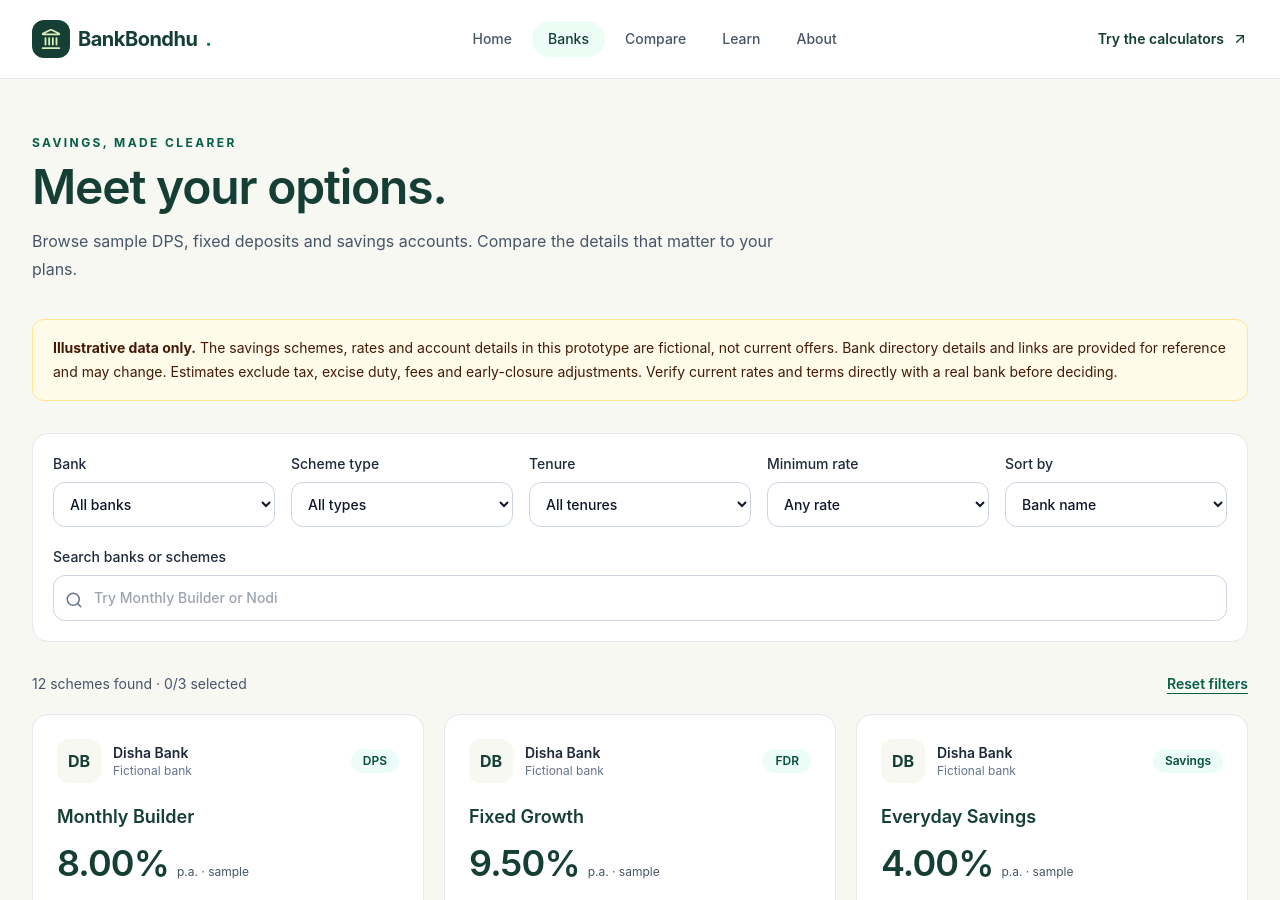
Test: shows an empty filter state and resets it
This screenshot has width=1280, height=900.
Type "nonexistent bank" into the search field labelled "Search banks or schemes".
click(640, 598); type("nonexistent bank")  # box 53,575 -> 1227,621
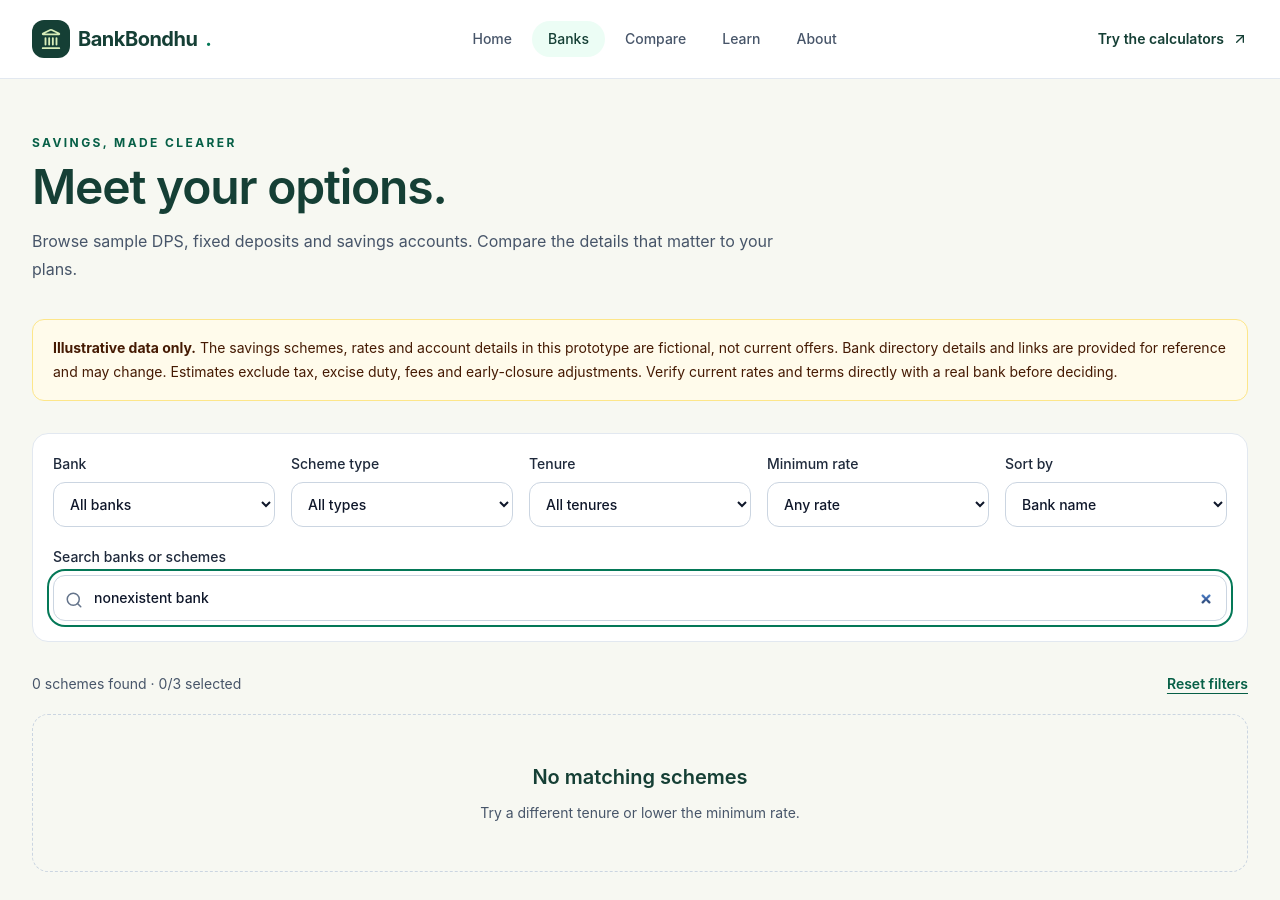
Result: the heading "No matching schemes" is shown at 532,765 -> 748,789
Click the button "Reset filters".
click(1207, 684)  # box 1167,674 -> 1248,694
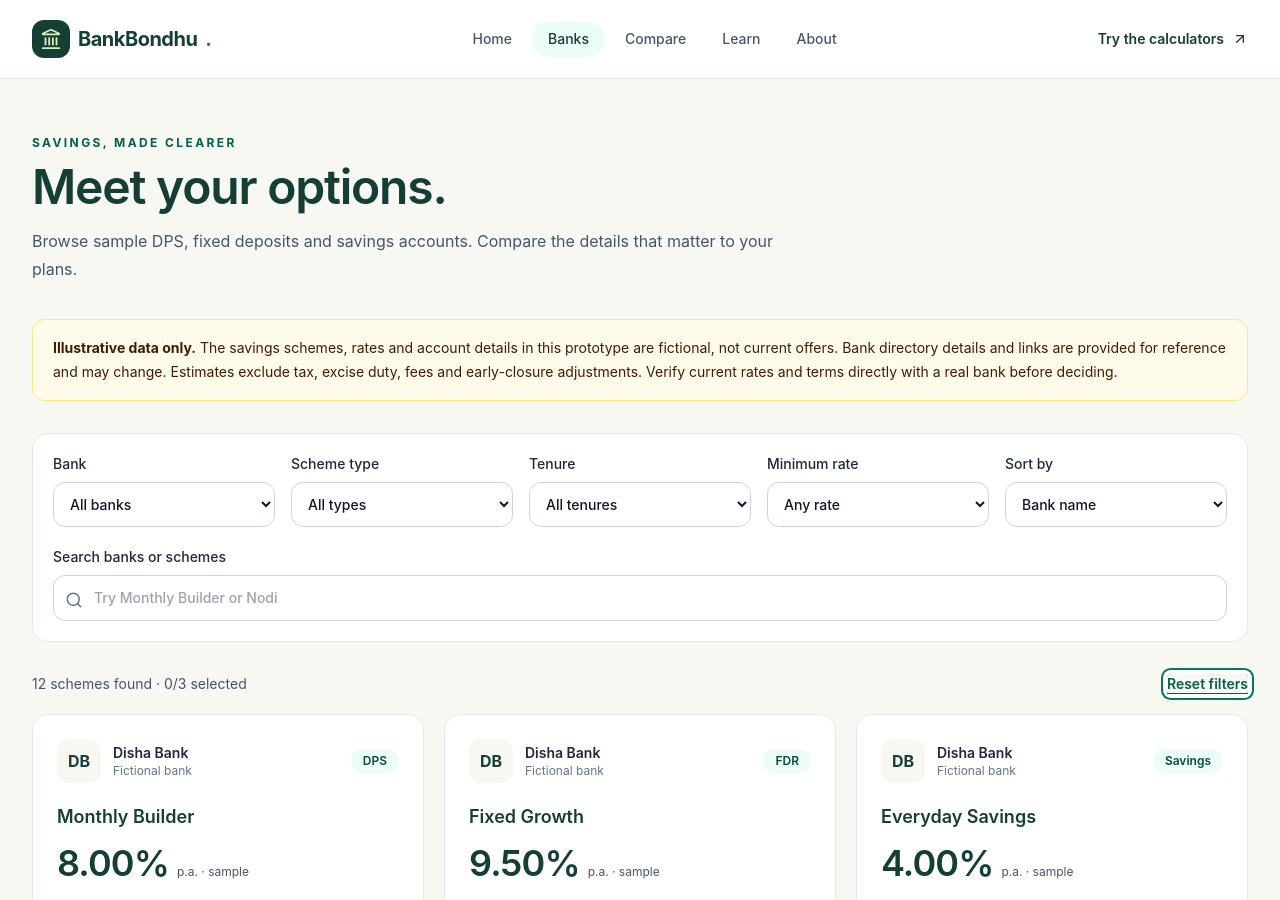
Result: the message shows "12 schemes found" at 32,674 -> 247,694
